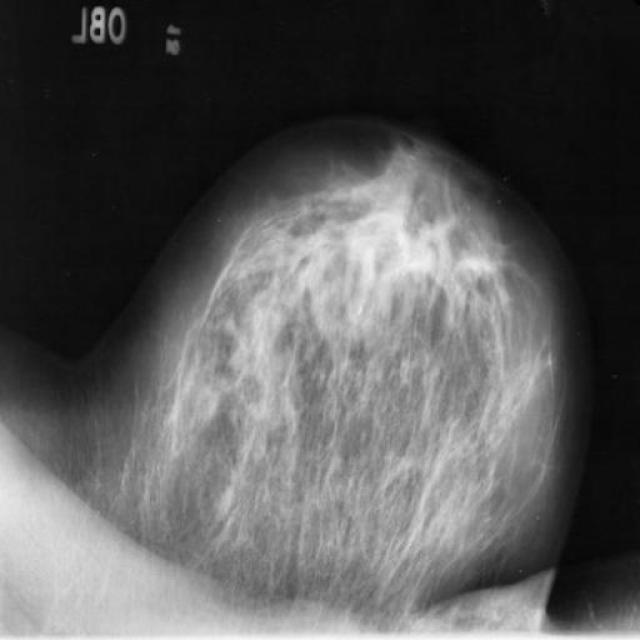cancer: (244, 258, 294, 338)
